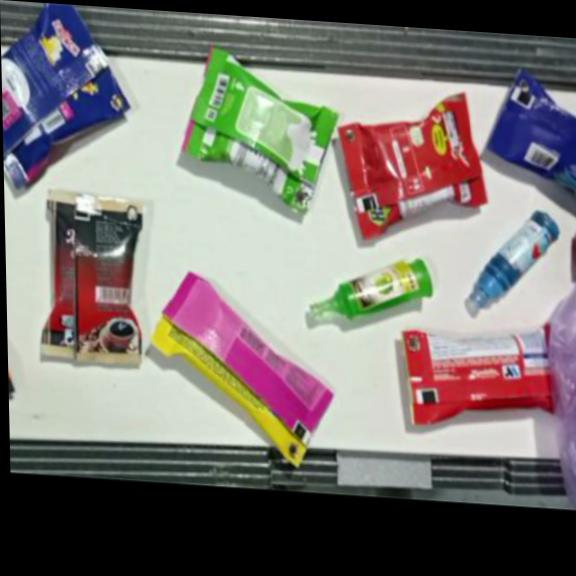Plastik: (148, 270, 337, 472), (179, 46, 340, 216), (0, 2, 131, 198), (337, 82, 489, 248), (37, 191, 145, 373), (402, 308, 556, 434), (485, 67, 576, 193), (466, 205, 563, 313), (307, 253, 435, 326), (547, 278, 576, 510)
